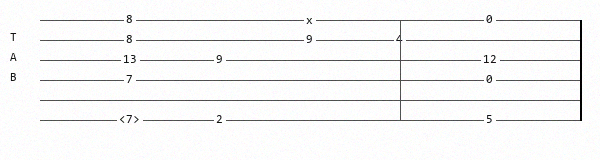0: (486, 74, 497, 86), (486, 14, 497, 26)
12: (483, 54, 501, 66)
13: (123, 54, 141, 66)
2: (216, 114, 227, 126)
4: (396, 34, 407, 46)
5: (486, 114, 497, 126)
7: (126, 74, 137, 86)
8: (126, 14, 137, 26), (126, 34, 137, 46)
9: (216, 54, 227, 66), (306, 34, 317, 46)
harmonic: (119, 114, 144, 126)
x: (306, 15, 317, 25)
